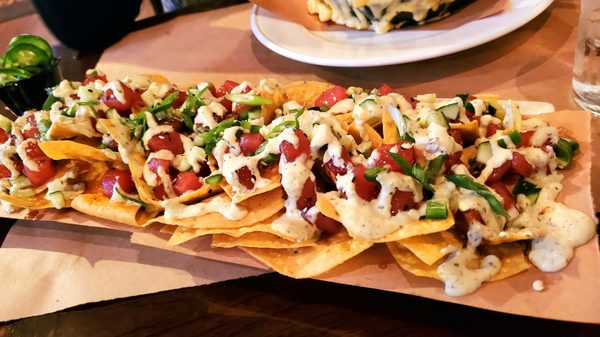pizza: (571, 2, 600, 116)
